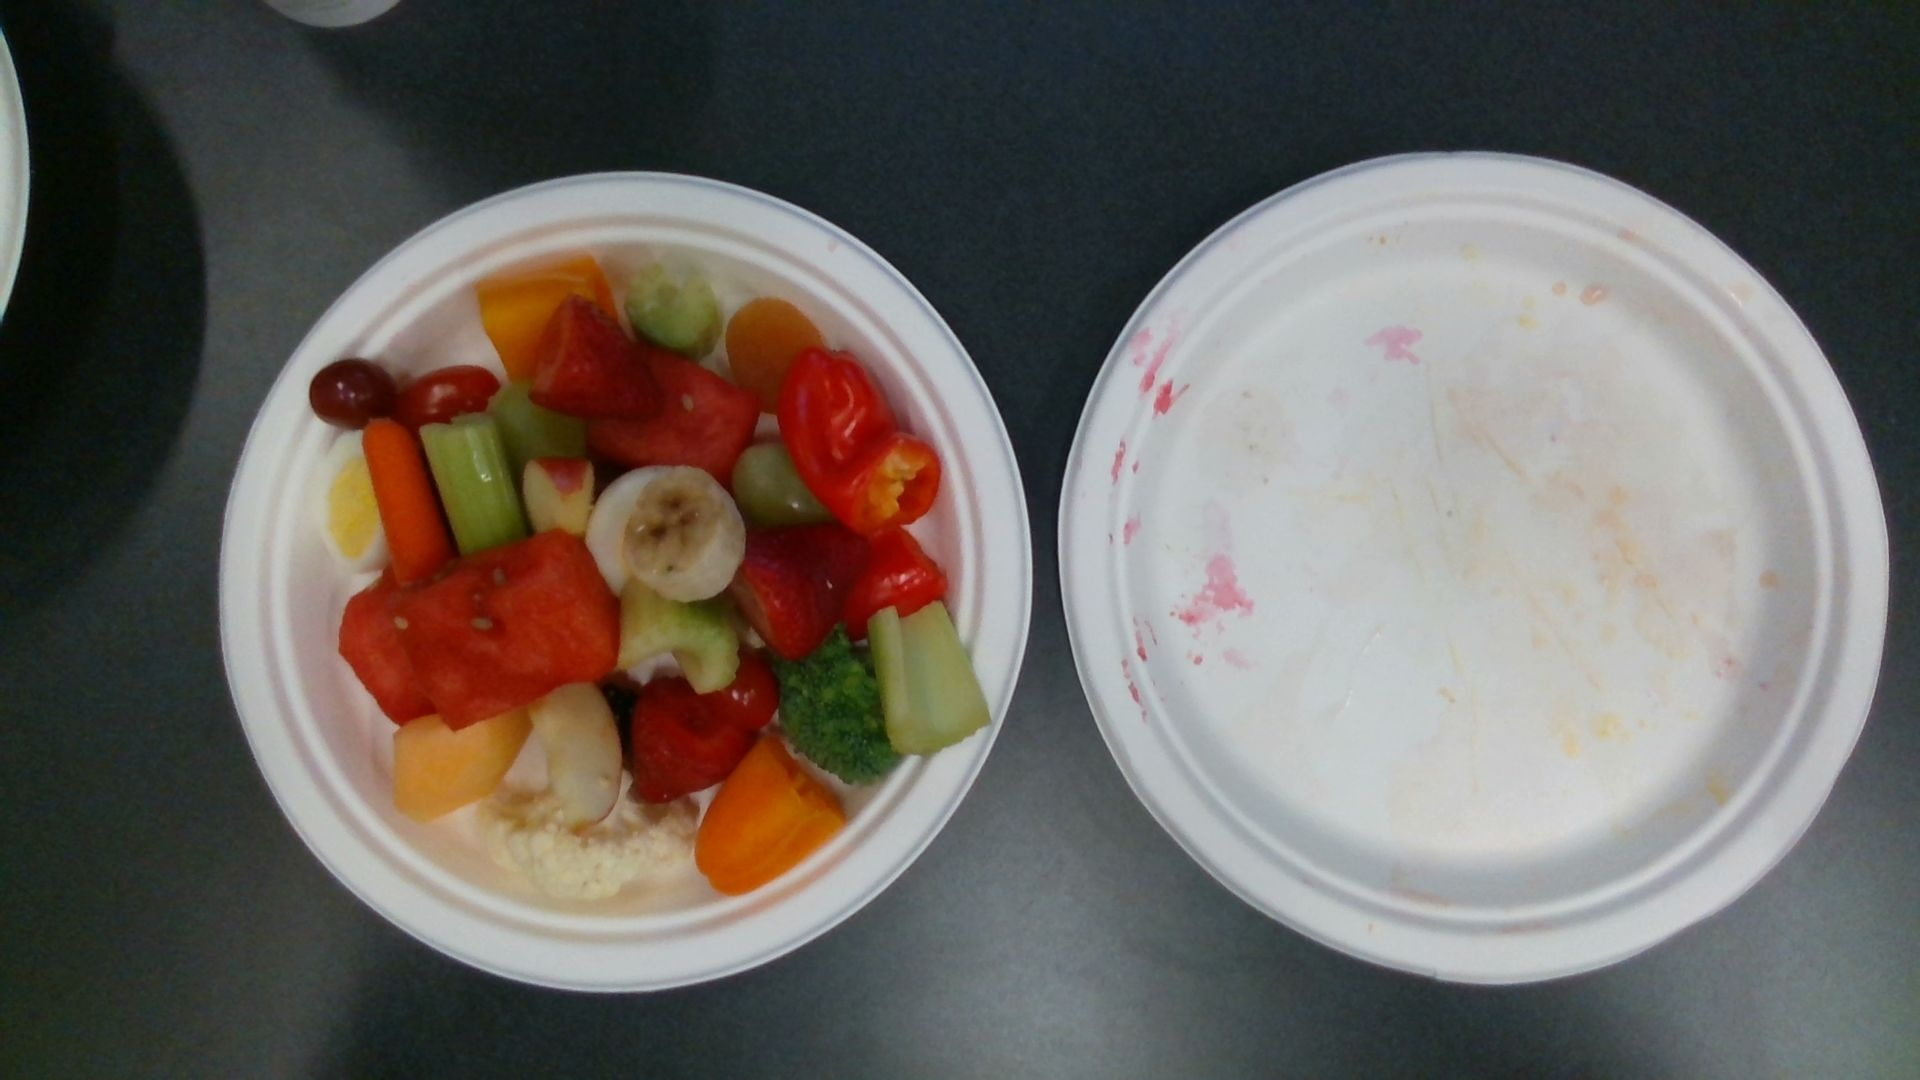apple: (529, 684, 624, 825)
apricot: (727, 301, 824, 407)
banana: (624, 473, 735, 595)
bell_pepper: (775, 351, 940, 530), (699, 738, 844, 895), (475, 260, 618, 375)
broccoli: (777, 636, 899, 781)
cantalope: (394, 713, 530, 816)
carrot: (360, 421, 444, 585)
cauliflower: (469, 800, 699, 895)
celery: (865, 601, 992, 756), (419, 415, 522, 553), (620, 597, 738, 694), (625, 262, 719, 349)
grape_purple: (310, 357, 400, 430)
melon: (392, 533, 618, 725), (592, 357, 757, 468)
strawberry: (530, 293, 659, 418), (738, 531, 866, 655), (632, 683, 746, 800)
